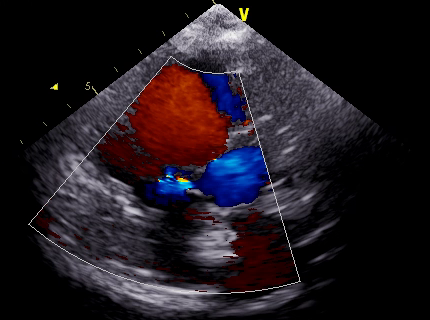TR: (147, 153, 212, 213)
